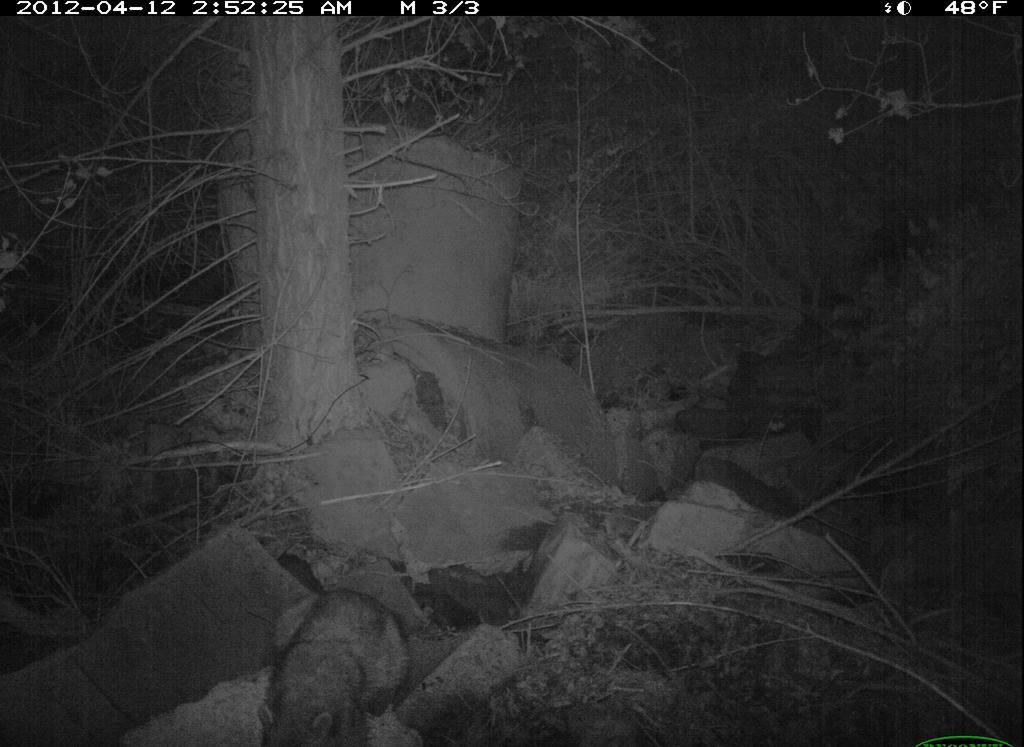raccoon: (242, 583, 418, 745)
